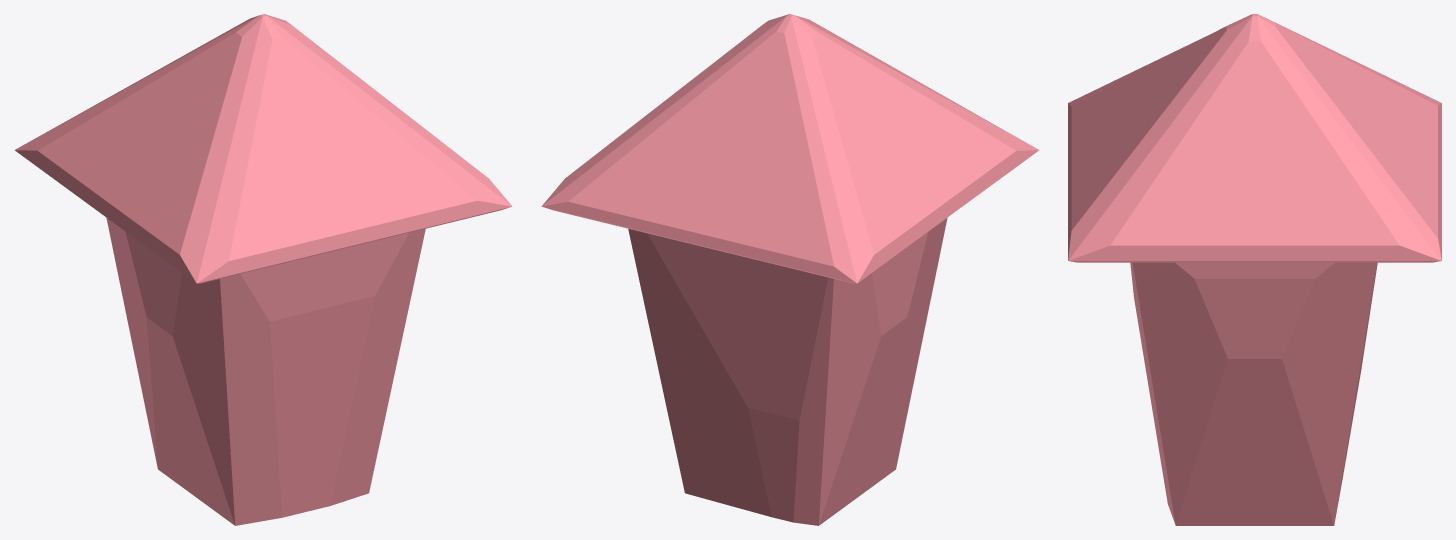
The model's file is house.fbx.
3 renders of one model, left to right at view 1: azimuth 30°, elevation 25°; view 2: azimuth 150°, elevation 25°; view 3: azimuth 270°, elevation 25°, orthographic. The views are drawn at different scales.
Parts seen in each view (by area): view 1: House; view 2: House; view 3: House.
Part boxes in pixels (<box>): House: <box>14,14,512,525</box>; House: <box>541,14,1039,525</box>; House: <box>1068,14,1441,525</box>.
Bounding box in the file's own units: 10387 × 14640 × 10387.
